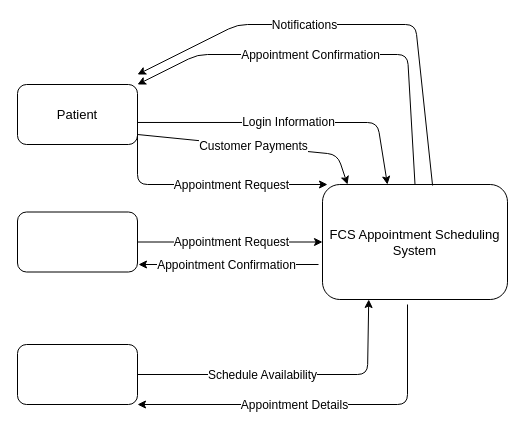
The diagram is 525 pixels wide and 430 high, and some of its shapes have lost their labels. The box of each missing label's shape, as (x1, y1, x2, y2) in pixels:
Healthcare Provider: (16, 344, 138, 404)
Receptionist: (16, 211, 138, 272)
